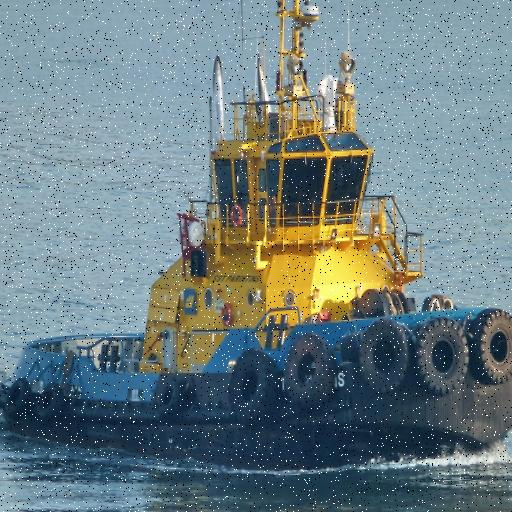tugboat: (1, 1, 512, 481)
